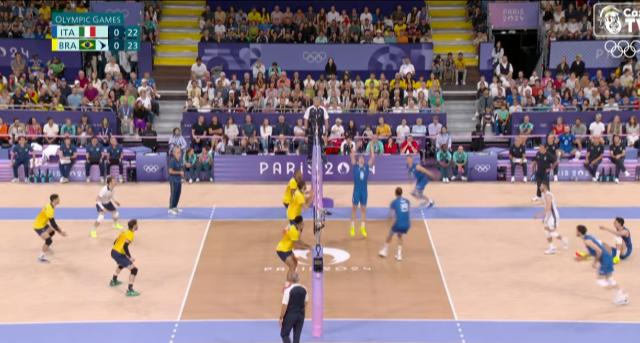Levantador: (110, 218, 142, 296), (352, 142, 372, 240)
Libero: (534, 182, 562, 248), (94, 176, 120, 226)
bola: (367, 107, 375, 116)
